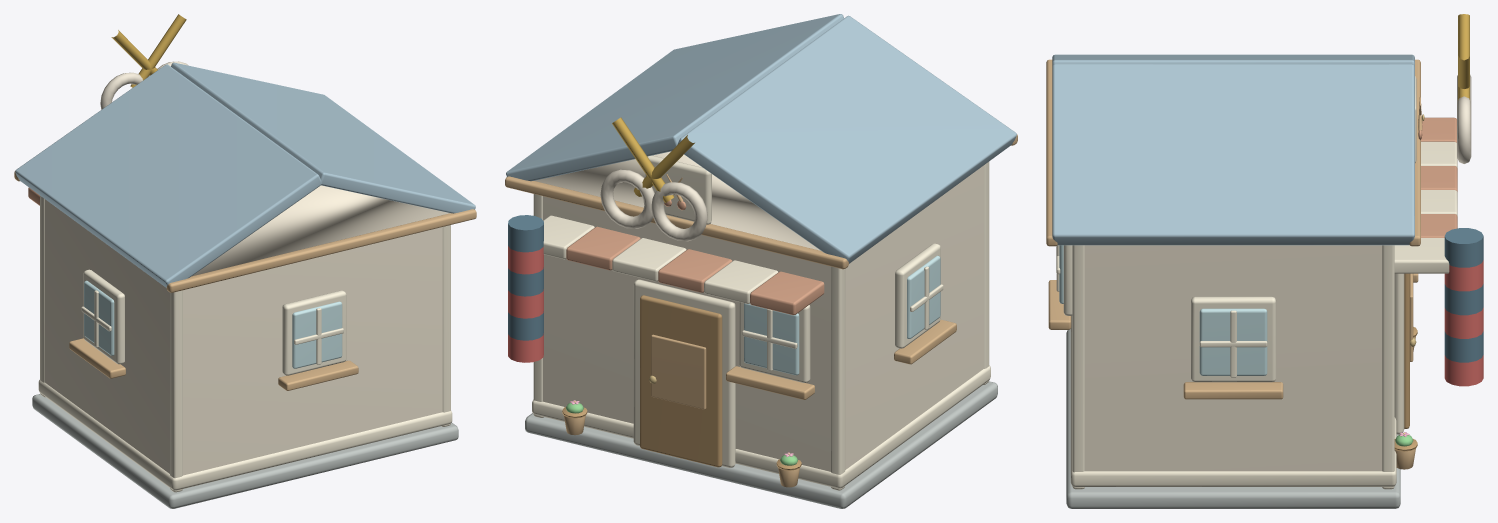
Rendered from hair.glb.
The picture shows the model from 3 angles, left to right: view 1: azimuth 30°, elevation 25°; view 2: azimuth 150°, elevation 25°; view 3: azimuth 270°, elevation 25°; orthographic projection. The views are drawn at different scales.
Bounding box in the file's own units: 3.62 × 3.68 × 3.69.
